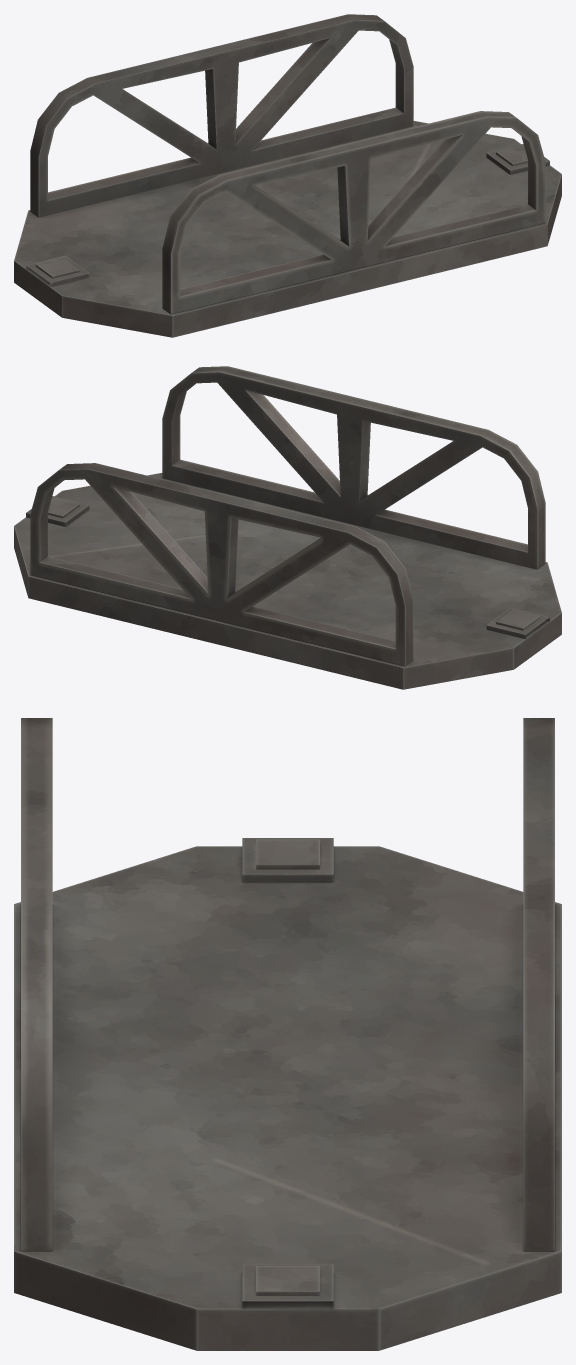
Rendered from WalkWay.fbx.
The picture shows the model from 3 angles, top to bottom: view 1: azimuth 30°, elevation 25°; view 2: azimuth 150°, elevation 25°; view 3: azimuth 270°, elevation 25°; orthographic projection. The views are drawn at different scales.
Parts seen in each view (by area): view 1: Pasarela; view 2: Pasarela; view 3: Pasarela.
Boxes of the visible parts, x1,y1,x2,y2 form: Pasarela: (14, 14, 561, 337); Pasarela: (14, 366, 561, 689); Pasarela: (14, 718, 561, 1350).
Size of the model in its own units: 240 by 65.01 by 120.
